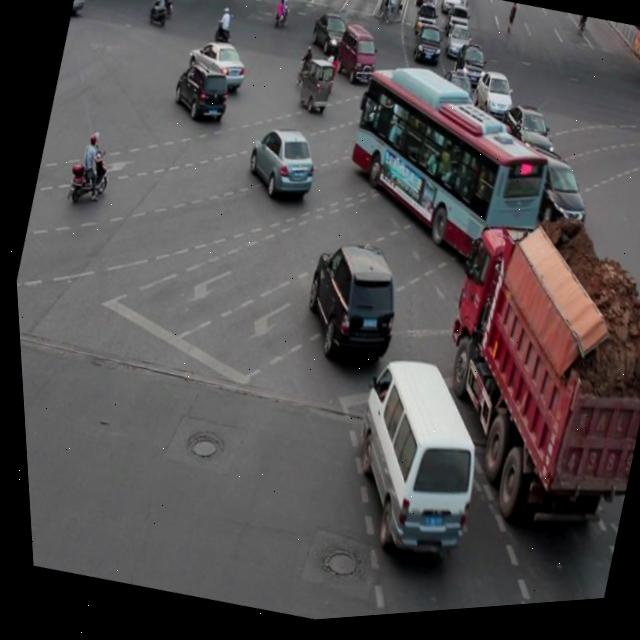bus: (399, 216, 640, 552)
car: (288, 234, 410, 374), (510, 150, 596, 247), (237, 120, 323, 209), (424, 118, 501, 195), (166, 55, 236, 131), (179, 33, 252, 100), (492, 102, 560, 173)
truck: (324, 350, 496, 570)
van: (322, 56, 566, 294)
